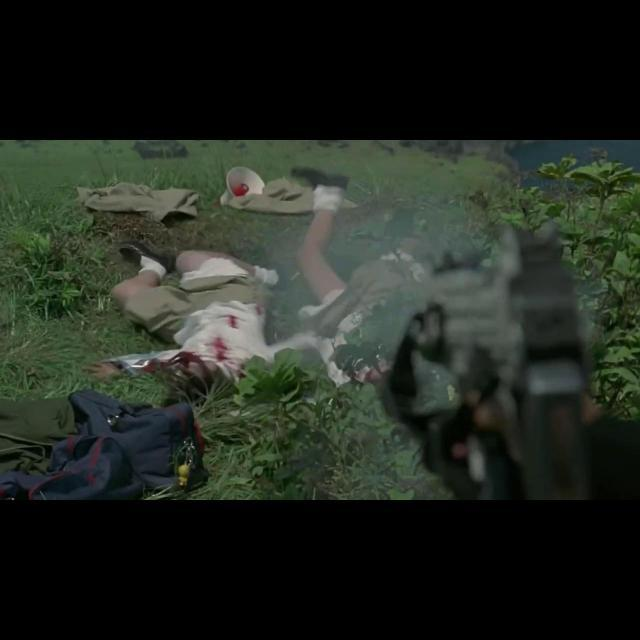blood: (168, 338, 234, 378), (228, 314, 236, 328)
